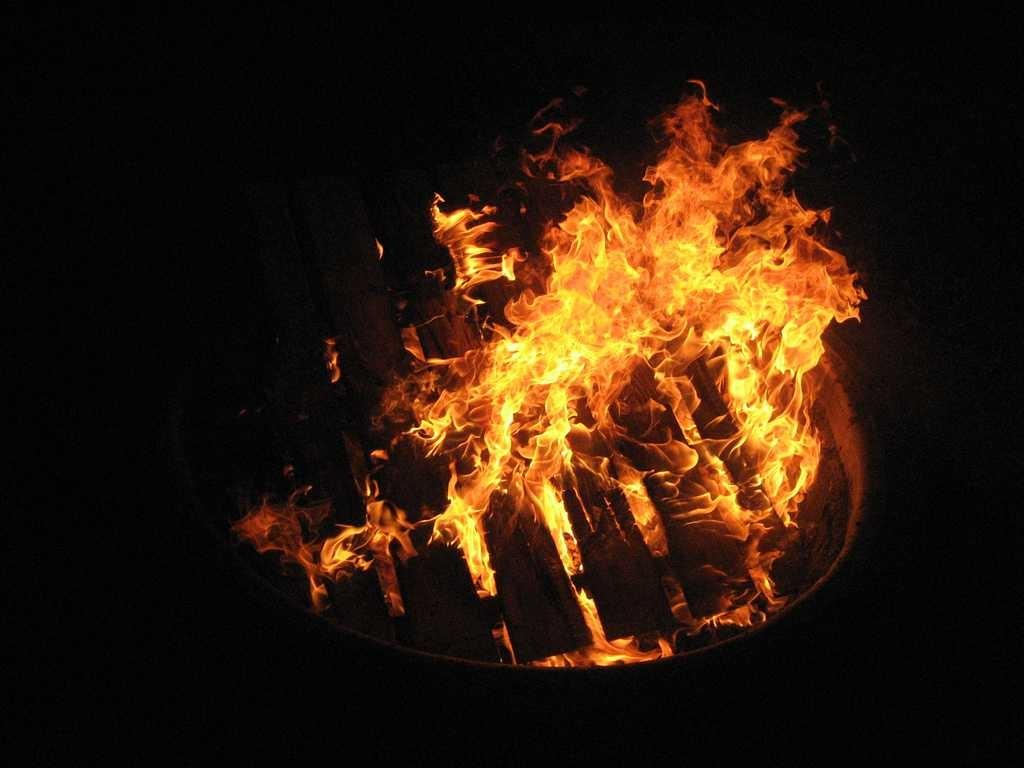fire: (554, 194, 820, 414), (438, 368, 542, 474)
